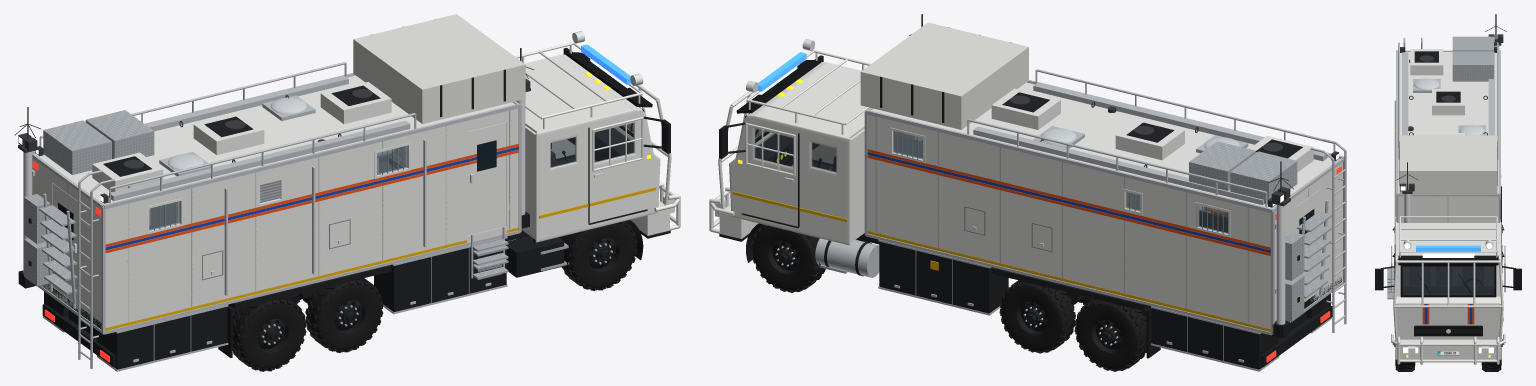
Rendered from kshm2.glb.
3 views of the same model, side by side, from view 1: azimuth 30°, elevation 25°; view 2: azimuth 150°, elevation 25°; view 3: azimuth 270°, elevation 25° (orthographic). The views are drawn at different scales.
Visible parts, largest first — view 1: n1071, n112, n750, n740, n996, n763, n726, n322, n120, n352, n790, n1026 (+49 smaller); view 2: n691, n1071, n111, n996, n681, n309, n667, n120, n342, n704, n72, n92 (+43 smaller); view 3: n1071, n996, n114, n124, n120, n816, n191, n1054, n122, n153, n115, n1046 (+43 smaller).
Boxes of the visible parts, x1,y1,x2,y2 form: n1071: (353,14,525,123); n112: (535,108,660,242); n750: (280,143,376,288); n740: (179,171,260,312); n996: (36,76,513,207); n763: (406,121,466,256); n726: (105,198,148,330); n322: (374,238,506,312); n120: (525,55,633,132); n352: (97,306,227,369); n790: (467,122,506,235); n1026: (109,120,410,201); n691: (923,128,1126,296); n1071: (860,22,1028,129); n111: (729,114,850,245); n996: (872,83,1338,208); n681: (1140,181,1199,314); n309: (879,241,1008,313); n667: (1228,203,1270,331); n120: (755,63,869,138); n342: (1151,308,1278,369); n704: (867,114,893,239); n72: (1001,281,1074,351); n92: (1076,299,1146,369); n1071: (1399,135,1497,194); n996: (1399,52,1497,196); n114: (1396,304,1500,339); n124: (1402,266,1494,295); n120: (1396,223,1500,255); n816: (1399,196,1497,222); n191: (1395,339,1501,359); n1054: (1452,51,1493,81); n122: (1402,266,1494,286); n153: (1398,255,1498,265); n115: (1396,296,1499,303); n1046: (1410,49,1443,75).
Size of the model in its own units: 11.29 by 4.61 by 3.4.
Materials: 282 (51 with a texture image).
